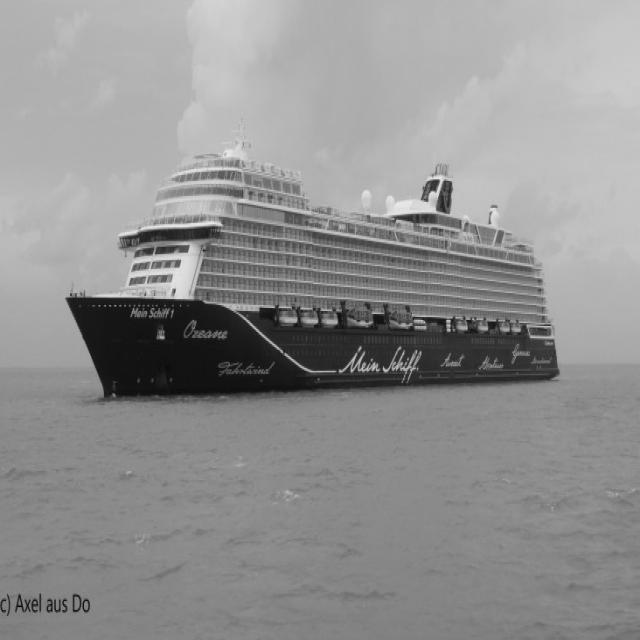cruises: (67, 137, 574, 405)
